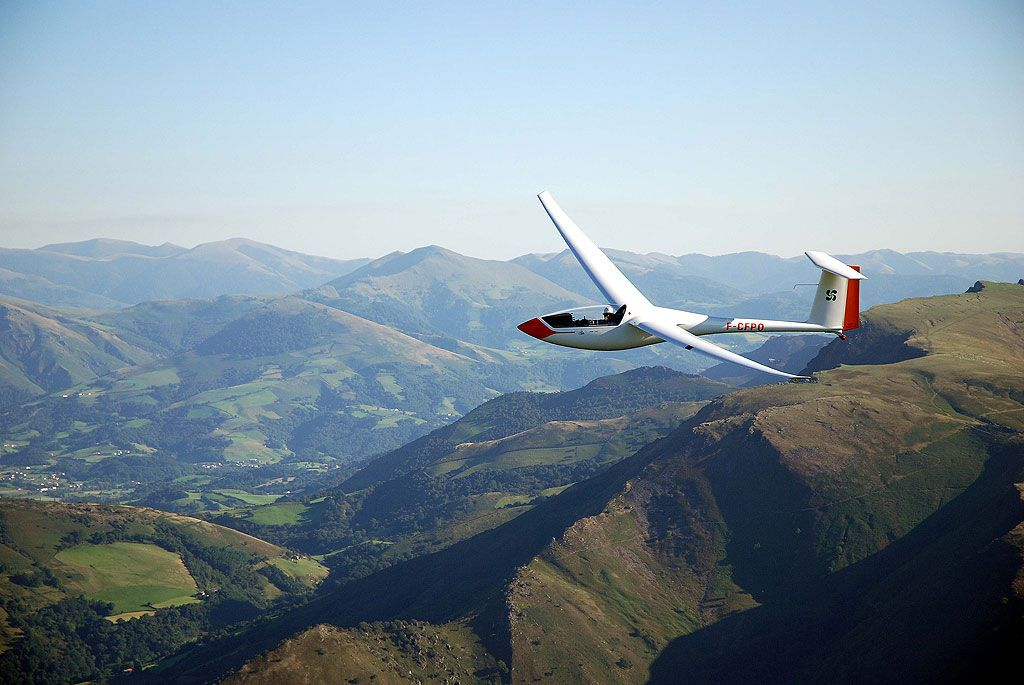Aeronef_de_loisir: (515, 183, 877, 385)
